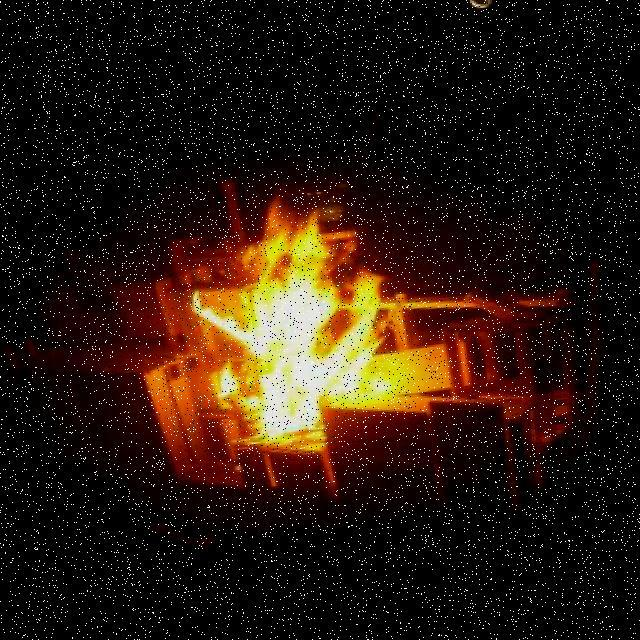Fire: (181, 175, 415, 455)
